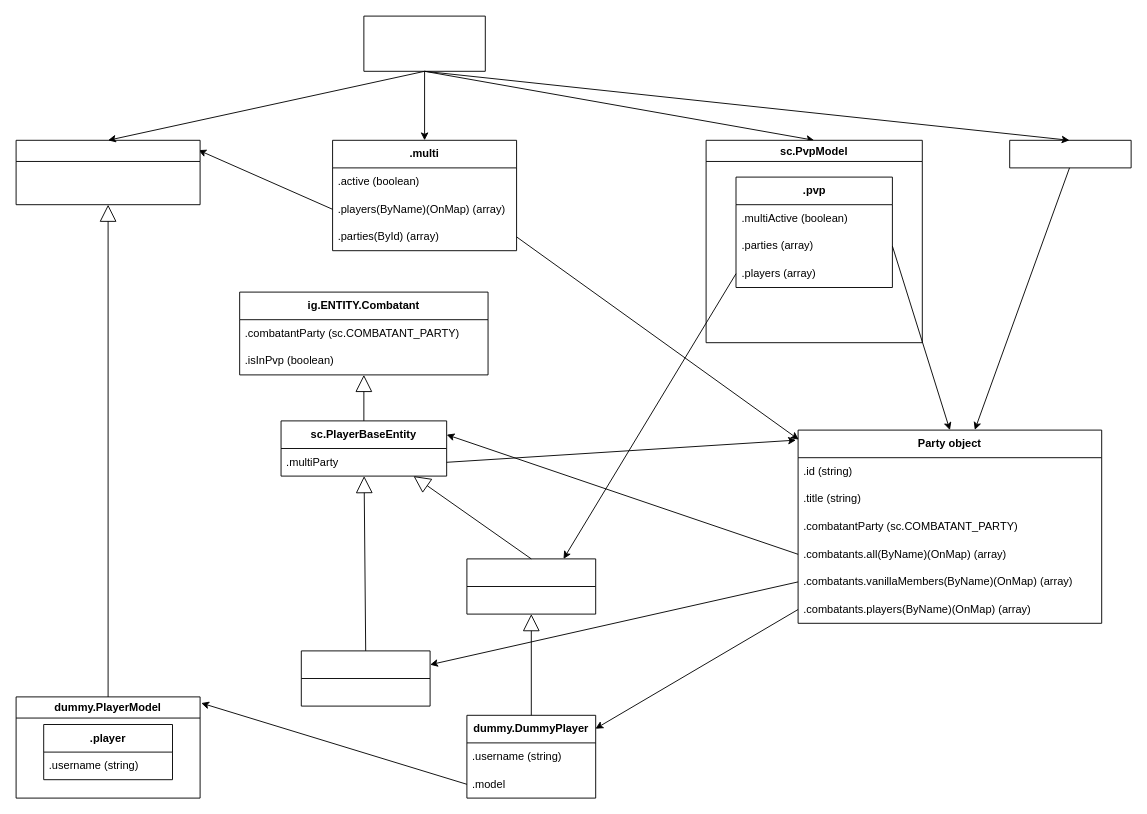
The diagram is 1147 pixels wide and 814 high, and some of its shapes have lost their labels. Here are the shapes that lost their labels. From the top down, the centre of each, then its label:
the point at 424,43: GLOBAL
the point at 107,172: sc.PlayerModel
the point at 1070,153: .party
the point at 531,586: ig.ENTITY.Player
the point at 365,678: sc.PartyMemberEntity
